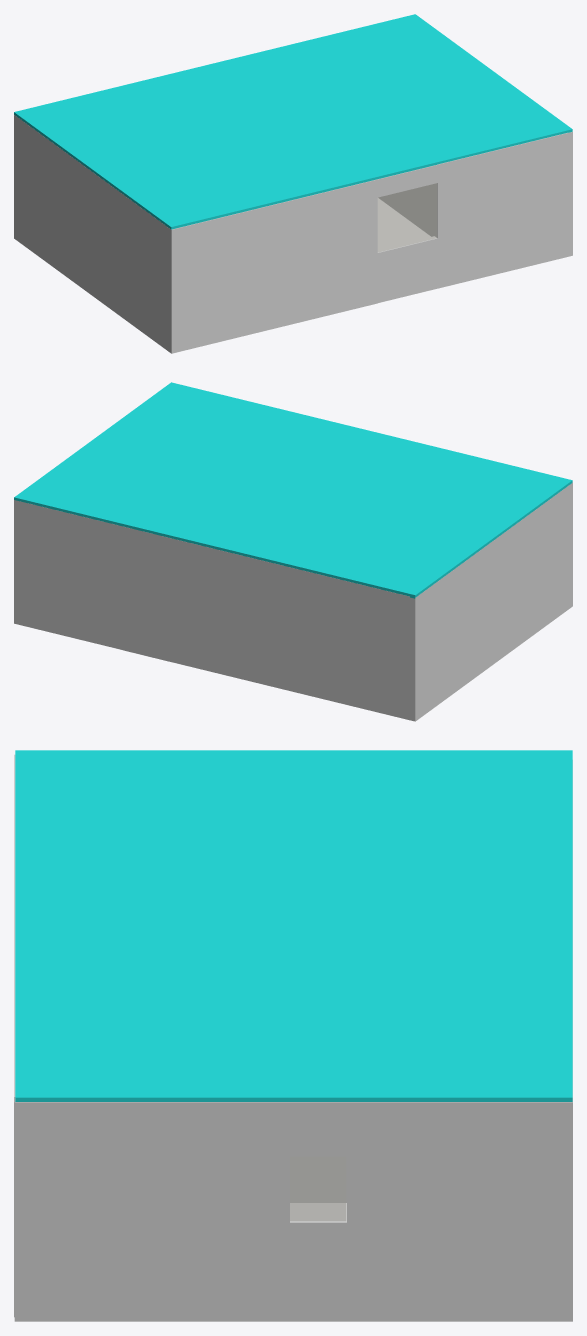
File: apartmentLayout.fbx
3 views of the same model, one above another, from view 1: azimuth 30°, elevation 25°; view 2: azimuth 150°, elevation 25°; view 3: azimuth 270°, elevation 25° (orthographic). The views are drawn at different scales.
Visible parts, largest first — view 1: Cube.016, Cube.001, Cube.007, Cube.002, Plane, Cube.003, Cube.014, Cube, Cube.004, Cube.010; view 2: Cube.016, Cube.005, Cube.007, Cube.006, Cube.008, Cube.009; view 3: Cube.016, Cube.010, Cube.009, Cube.011, Plane.001, Cube.012, Cube.014, Cube.
Boxes of the visible parts, x1,y1,x2,y2 form: Cube.016: (14, 14, 572, 229); Cube.001: (177, 179, 377, 352); Cube.007: (14, 115, 176, 353); Cube.002: (435, 132, 567, 288); Plane: (377, 183, 437, 252); Cube.003: (377, 236, 437, 302); Cube.014: (378, 184, 434, 236); Cube: (378, 198, 430, 249); Cube.004: (377, 164, 437, 197); Cube.010: (568, 131, 572, 256); Cube.016: (14, 382, 572, 598); Cube.005: (168, 538, 409, 720); Cube.007: (410, 482, 572, 721); Cube.006: (19, 501, 122, 649); Cube.008: (122, 526, 168, 661); Cube.009: (14, 500, 19, 624); Cube.016: (15, 750, 572, 1101); Cube.010: (14, 1098, 289, 1321); Cube.009: (347, 1097, 572, 1321); Cube.011: (289, 1217, 347, 1321); Plane.001: (290, 1156, 346, 1221); Cube.012: (289, 1102, 347, 1156); Cube.014: (290, 1156, 346, 1202); Cube: (290, 1203, 346, 1217).
Size of the model in its own units: 1042 by 314 by 709.
